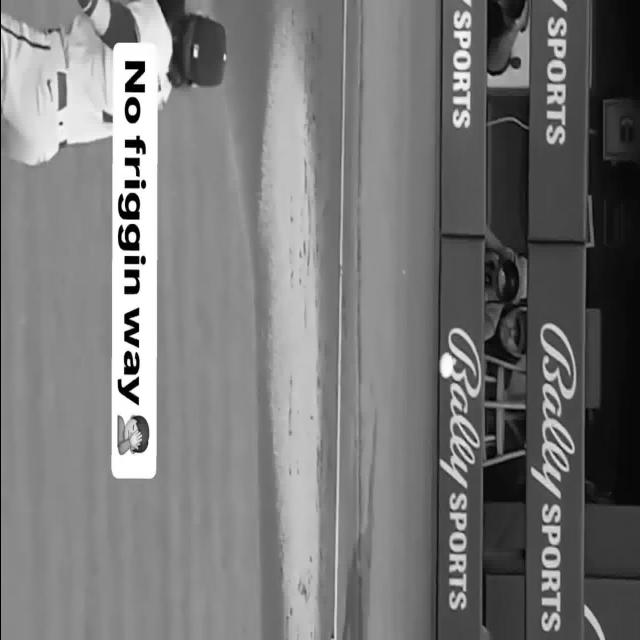baseball: (438, 351, 454, 378)
